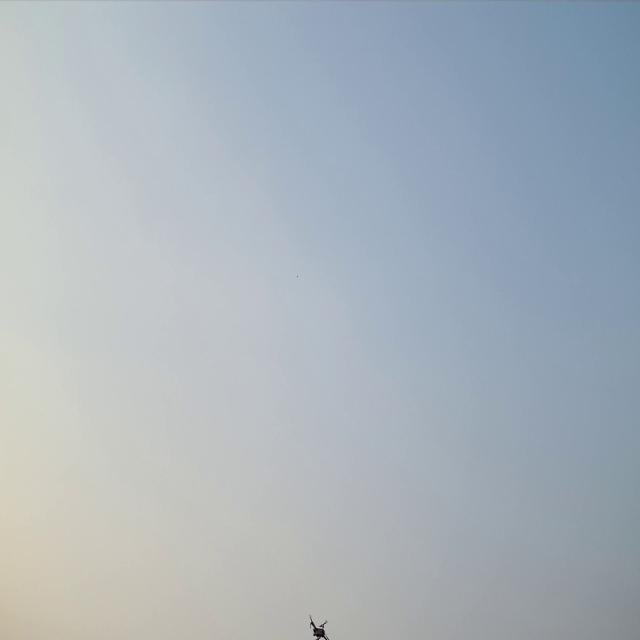UAV: (308, 610, 332, 640)
